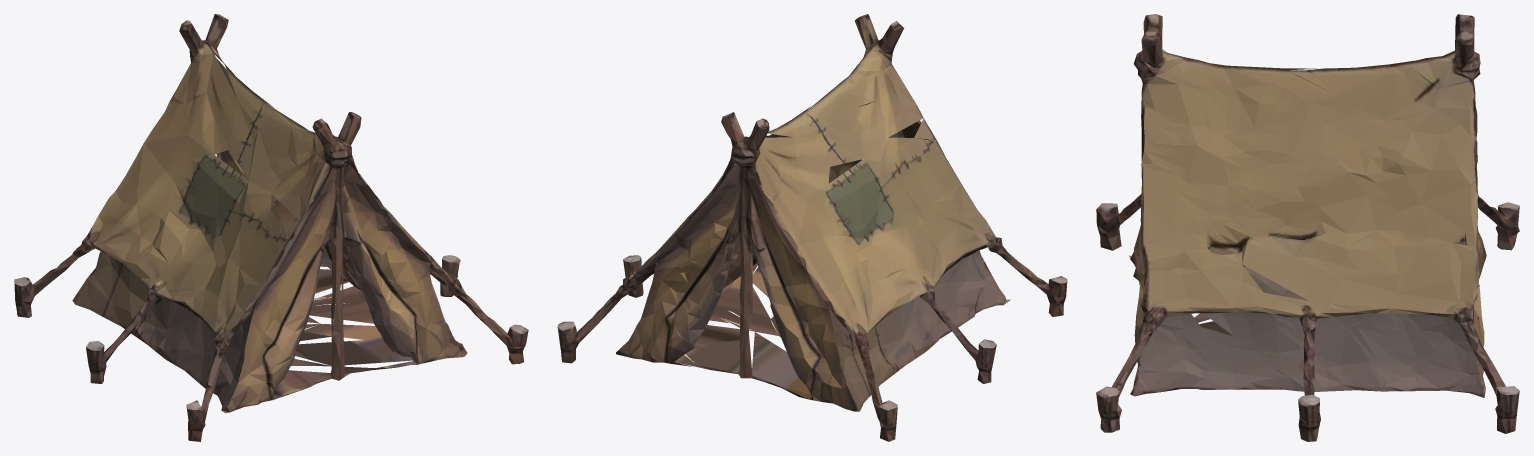
The model's file is bandit_tent.glb.
3 renders of one model, left to right at view 1: azimuth 30°, elevation 25°; view 2: azimuth 150°, elevation 25°; view 3: azimuth 270°, elevation 25°, orthographic. The views are drawn at different scales.
Parts seen in each view (by area): view 1: geometry_0; view 2: geometry_0; view 3: geometry_0.
Boxes of the visible parts, left/top/right/bottom form: geometry_0: left=14, top=14, right=528, bottom=441; geometry_0: left=557, top=14, right=1067, bottom=441; geometry_0: left=1096, top=14, right=1519, bottom=441.
Size of the model in its own units: 2.4 by 1.68 by 2.03.
Materials: 1 (1 with a texture image).
